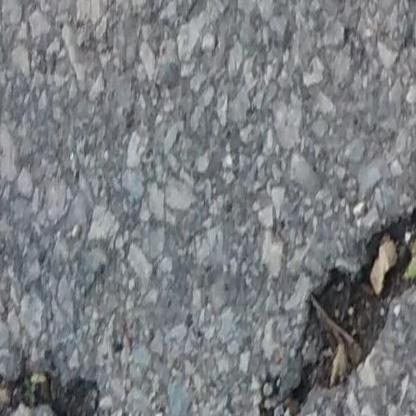Cracks: (258, 203, 416, 416), (0, 350, 106, 416)
